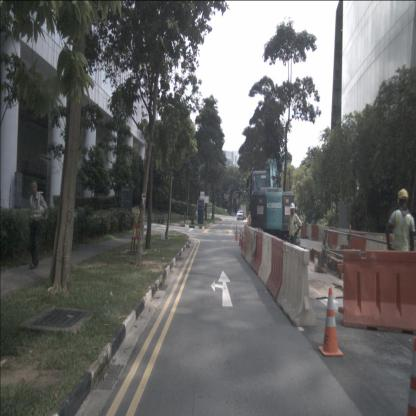barrier: (337, 249, 416, 334), (276, 241, 316, 327), (266, 236, 287, 302), (366, 232, 390, 264), (258, 232, 272, 286), (251, 229, 263, 274), (350, 230, 366, 260), (244, 226, 255, 266), (336, 231, 350, 253), (241, 225, 250, 259), (326, 229, 337, 251), (318, 224, 328, 243), (311, 224, 319, 240), (306, 223, 312, 238), (300, 222, 306, 236), (247, 217, 251, 227)
cone: (318, 288, 343, 357), (404, 338, 416, 416), (240, 231, 245, 250), (238, 230, 243, 246), (235, 225, 239, 242)
